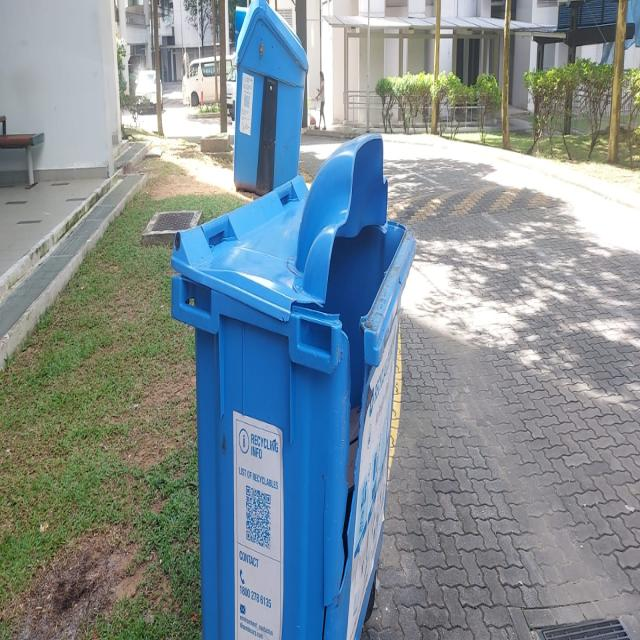bin_empty: (190, 133, 400, 640), (230, 7, 308, 185)
